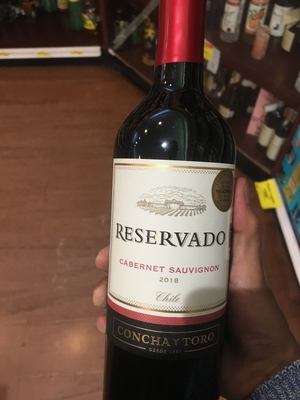reservado cabernet sauvignon: (100, 1, 243, 400)
